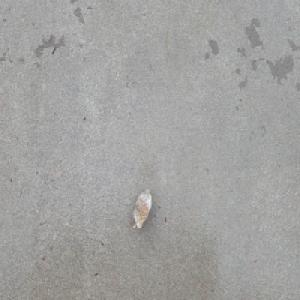Rock: (132, 186, 152, 231)
